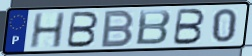0: (211, 7, 240, 44)
B: (99, 8, 137, 49), (135, 8, 173, 46), (64, 10, 101, 49), (171, 8, 207, 46)
H: (28, 11, 67, 50)
